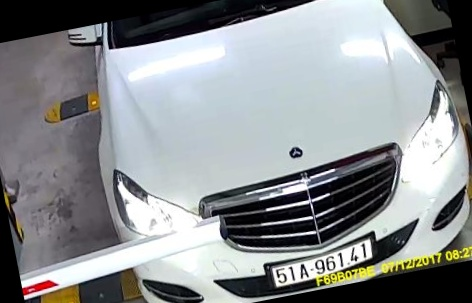plate: (263, 226, 369, 290)
